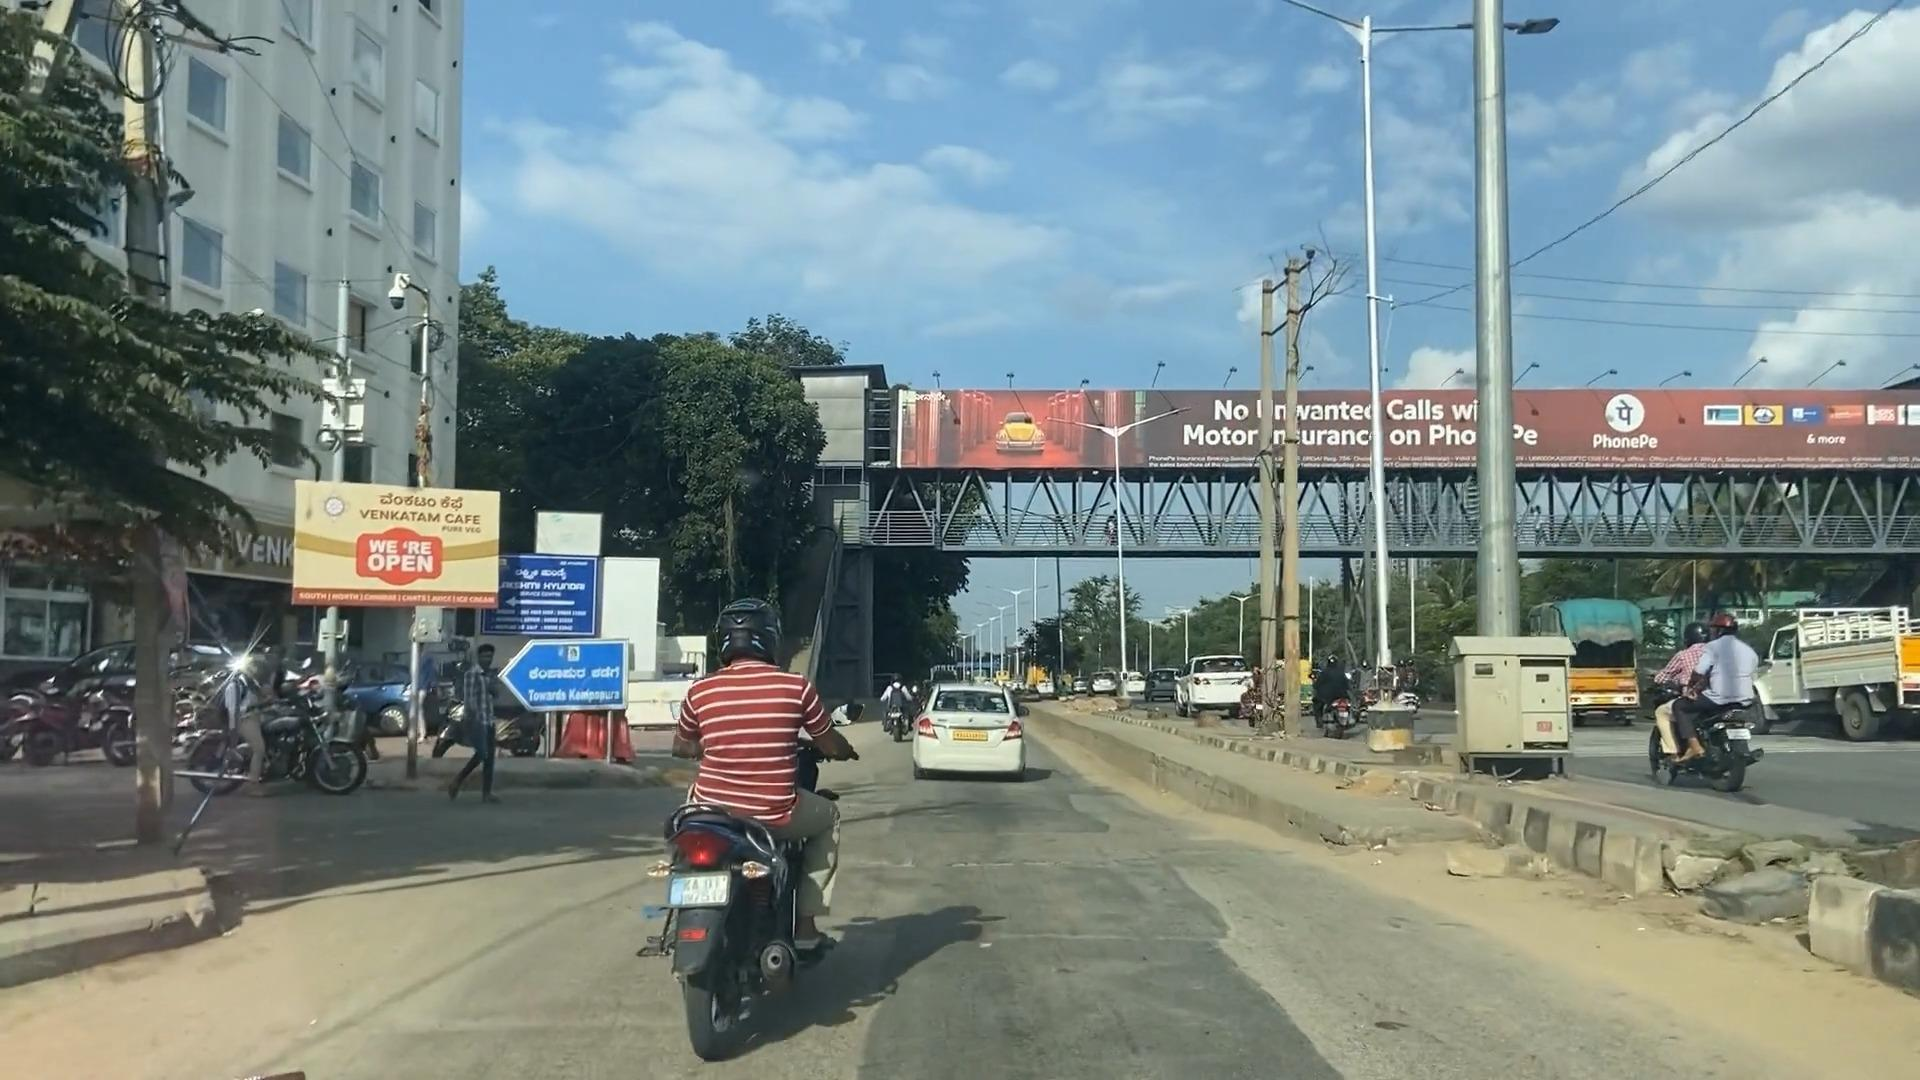LMV: (662, 615, 803, 1060), (916, 683, 1018, 782)
UnsurfacedRoad: (869, 820, 1323, 967)
